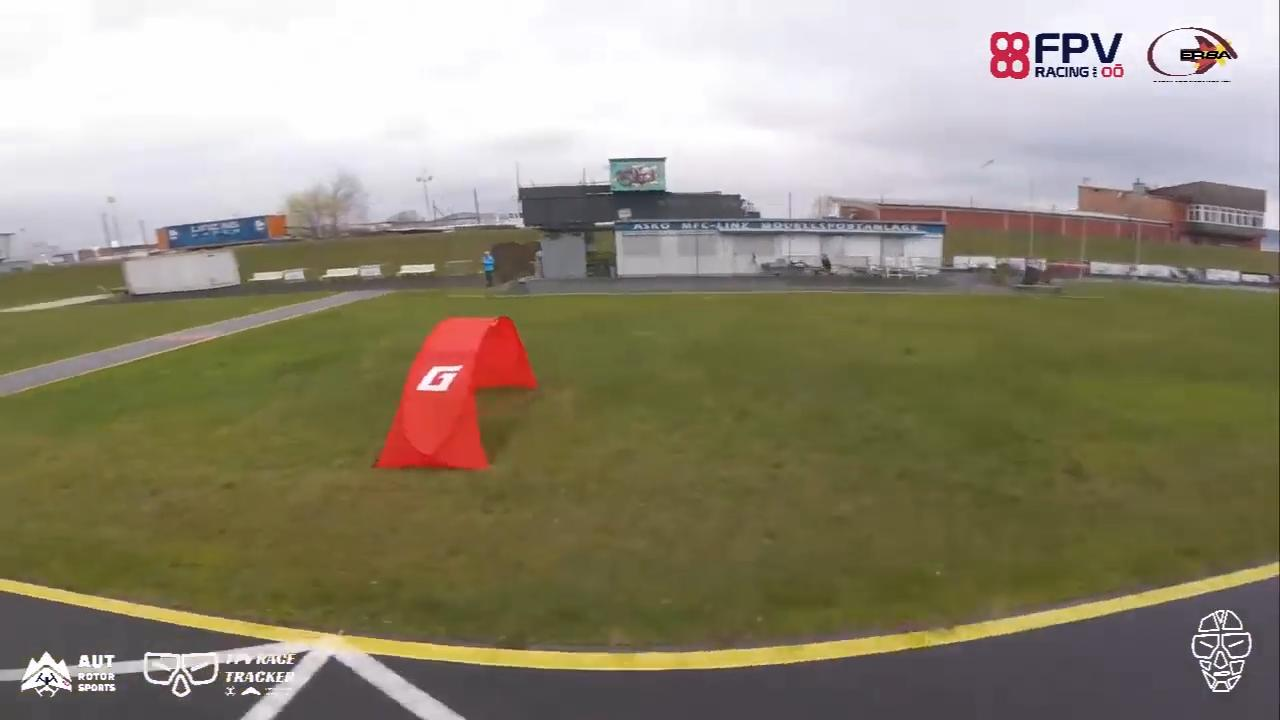gate: (369, 315, 544, 471)
